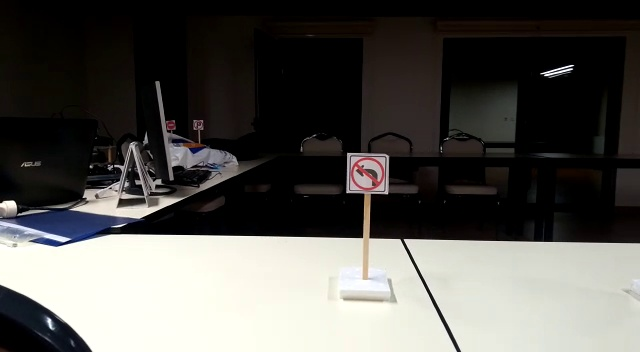sola_donulmez: (347, 156, 388, 193)
